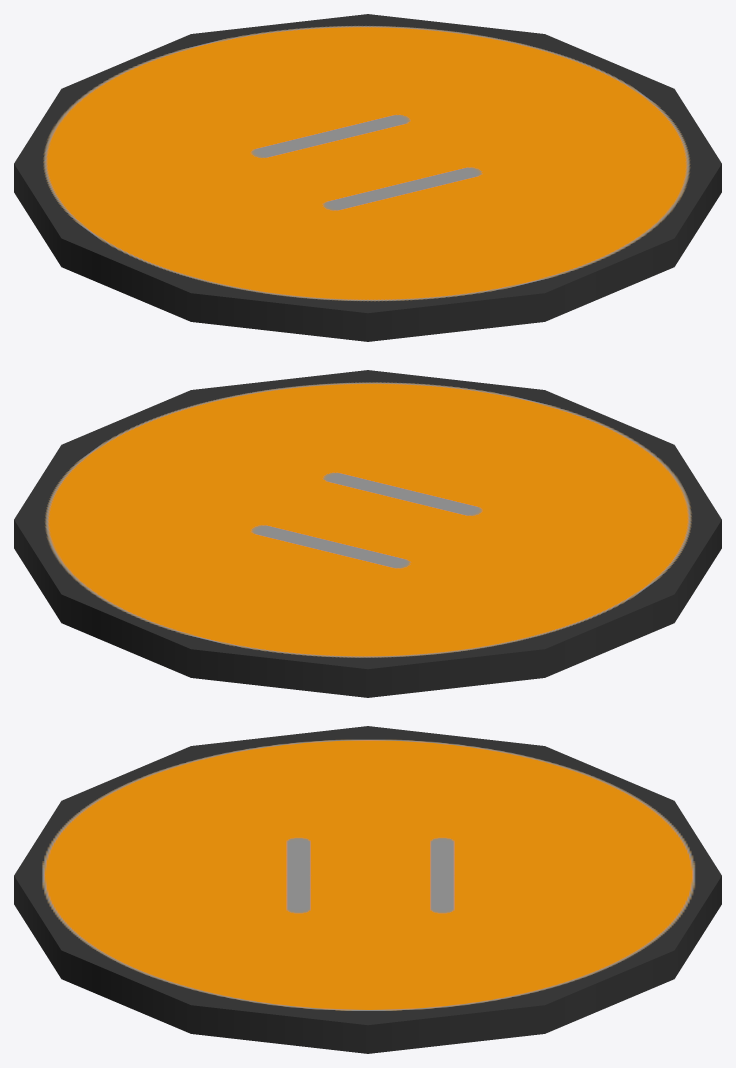
Rendered from Ring.fbx.
3 renders of one model, top to bottom at view 1: azimuth 30°, elevation 25°; view 2: azimuth 150°, elevation 25°; view 3: azimuth 270°, elevation 25°, orthographic.
Parts seen in each view (by area): view 1: Cylinder01; view 2: Cylinder01; view 3: Cylinder01.
Part boxes in pixels (bbox=[...]): Cylinder01: bbox=[14, 14, 721, 341]; Cylinder01: bbox=[14, 370, 721, 697]; Cylinder01: bbox=[14, 726, 721, 1053].
Size of the model in its own units: 134 by 6 by 134.
